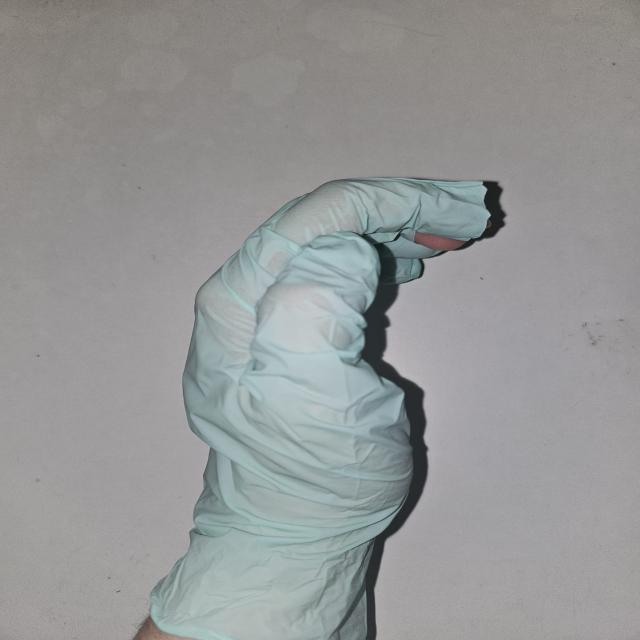gloves_damaged: (149, 175, 497, 640)
